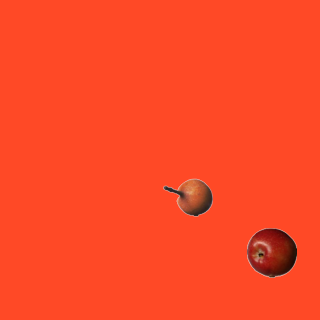Apple Braeburn: (246, 227, 296, 277)
Granadilla: (162, 172, 212, 222)
